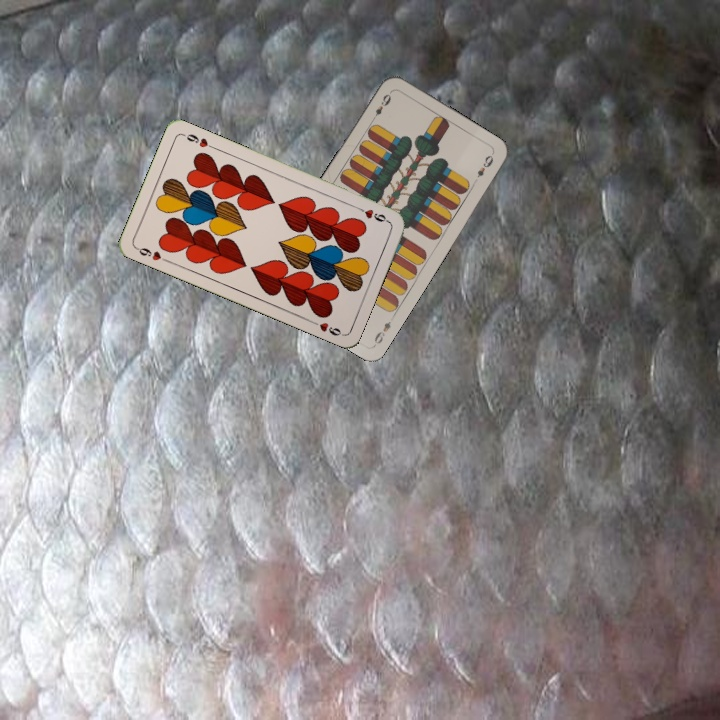E9: (370, 312, 397, 346), (368, 90, 394, 123)
H9: (132, 243, 170, 265), (353, 203, 391, 225)
